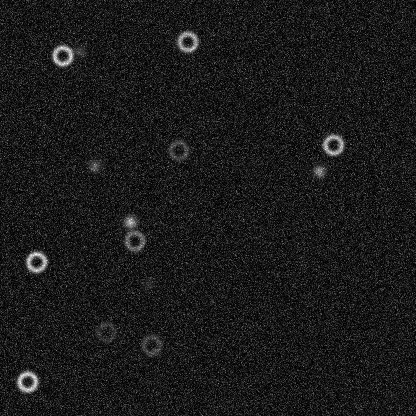Ring: (122, 228, 146, 252), (15, 369, 39, 393), (166, 138, 190, 162), (24, 249, 48, 273), (94, 319, 118, 343), (321, 132, 345, 156), (50, 43, 74, 67), (175, 29, 199, 53), (139, 332, 163, 356)
Spot: (86, 157, 102, 173), (121, 214, 137, 230), (311, 162, 327, 178), (140, 276, 156, 292), (71, 43, 87, 59)
